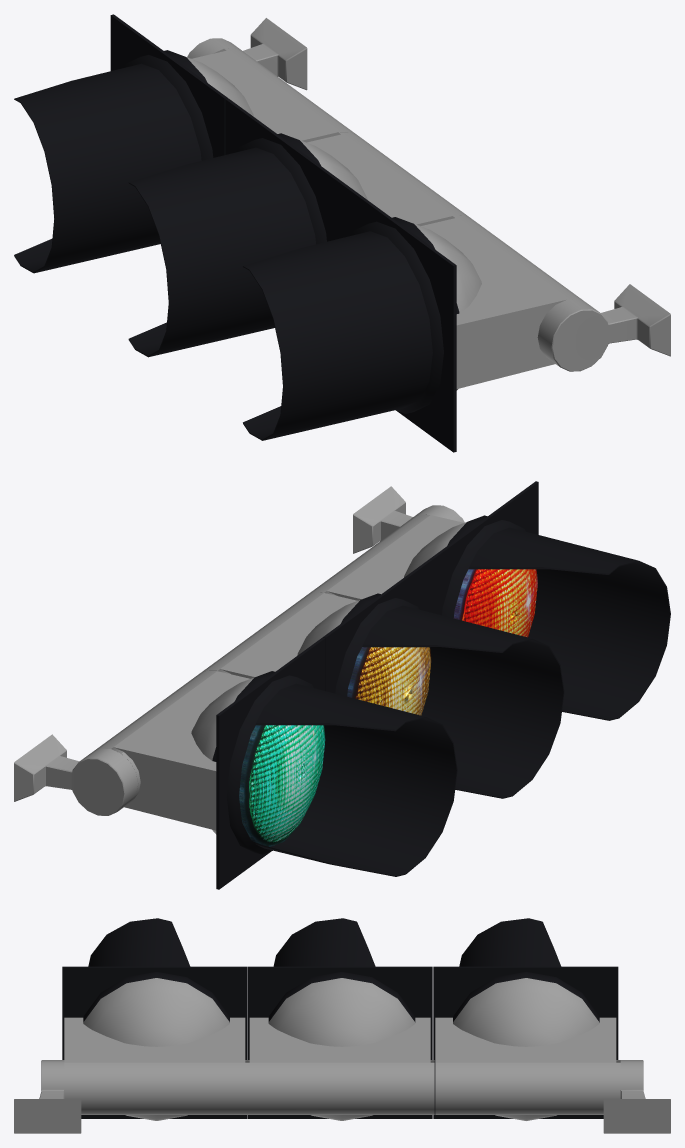
The model's file is Ampel_Standard_Mast.obj.
3 views of the same model, one above another, from view 1: azimuth 30°, elevation 25°; view 2: azimuth 150°, elevation 25°; view 3: azimuth 270°, elevation 25° (orthographic). The views are drawn at different scales.
Parts seen in each view (by area): view 1: Sonnenblende.002_Cylinder.002, Sonnenblende_Cylinder.002, Sonnenblende.001_Cylinder.002, Cube.002_Cube.001, Masthalterung_Cylinder.004, Blende.002_Cube.004, Cube_Cube.001, Cube.001, BezierCurve.003_BezierCurve.002, Blende_Cube.004, Blende.001_Cube.004, Masthalterung.001_Cylinder.004 (+2 smaller); view 2: Sonnenblende_Cylinder.002, Sonnenblende.001_Cylinder.002, Sonnenblende.002_Cylinder.002, BezierCurve.001_BezierCurve, Cube_Cube.001, BezierCurve.002_BezierCurve.004, BezierCurve.003_BezierCurve.002, Masthalterung.001_Cylinder.004, Blende_Cube.004, Cube.001, Cube.002_Cube.001, Blende.001_Cube.004 (+2 smaller); view 3: Cube.001, Cube_Cube.001, Cube.002_Cube.001, BezierCurve.002_BezierCurve.004, BezierCurve.001_BezierCurve, BezierCurve.003_BezierCurve.002, Blende_Cube.004, Blende.001_Cube.004, Blende.002_Cube.004, Sonnenblende.001_Cylinder.002, Sonnenblende.002_Cylinder.002, Sonnenblende_Cylinder.002 (+2 smaller).
Part boxes in pixels (bbox=[...]): Sonnenblende.002_Cylinder.002: bbox=[243, 231, 432, 440]; Sonnenblende_Cylinder.002: bbox=[14, 63, 201, 273]; Sonnenblende.001_Cylinder.002: bbox=[128, 147, 315, 357]; Cube.002_Cube.001: bbox=[421, 215, 586, 388]; Masthalterung_Cylinder.004: bbox=[537, 284, 670, 371]; Blende.002_Cube.004: bbox=[339, 182, 456, 452]; Cube_Cube.001: bbox=[191, 48, 357, 142]; Cube.001: bbox=[307, 132, 472, 226]; BezierCurve.003_BezierCurve.002: bbox=[350, 217, 481, 413]; Blende_Cube.004: bbox=[110, 14, 227, 157]; Blende.001_Cube.004: bbox=[225, 98, 342, 241]; Masthalterung.001_Cylinder.004: bbox=[187, 18, 307, 90]; Sonnenblende_Cylinder.002: bbox=[255, 683, 457, 876]; Sonnenblende.001_Cylinder.002: bbox=[362, 605, 564, 798]; Sonnenblende.002_Cylinder.002: bbox=[468, 527, 670, 720]; BezierCurve.001_BezierCurve: bbox=[191, 671, 325, 854]; Cube_Cube.001: bbox=[93, 670, 249, 830]; BezierCurve.002_BezierCurve.004: bbox=[297, 593, 431, 715]; BezierCurve.003_BezierCurve.002: bbox=[404, 515, 537, 637]; Masthalterung.001_Cylinder.004: bbox=[14, 734, 138, 815]; Blende_Cube.004: bbox=[216, 637, 325, 889]; Cube.001: bbox=[199, 592, 357, 678]; Cube.002_Cube.001: bbox=[305, 514, 463, 600]; Blende.001_Cube.004: bbox=[323, 559, 432, 693]; Cube.001: bbox=[249, 1017, 434, 1114]; Cube_Cube.001: bbox=[435, 1017, 620, 1114]; Cube.002_Cube.001: bbox=[64, 1017, 249, 1114]; BezierCurve.002_BezierCurve.004: bbox=[268, 972, 415, 1120]; BezierCurve.001_BezierCurve: bbox=[453, 972, 599, 1120]; BezierCurve.003_BezierCurve.002: bbox=[83, 972, 229, 1120]; Blende_Cube.004: bbox=[433, 966, 618, 1118]; Blende.001_Cube.004: bbox=[247, 966, 432, 1118]; Blende.002_Cube.004: bbox=[62, 966, 247, 1118]; Sonnenblende.001_Cylinder.002: bbox=[273, 918, 375, 966]; Sonnenblende.002_Cylinder.002: bbox=[88, 918, 190, 966]; Sonnenblende_Cylinder.002: bbox=[459, 918, 561, 966].
Size of the model in its own units: 0.4823 by 0.2502 by 0.9853.
Materials: 5 (5 with a texture image).
